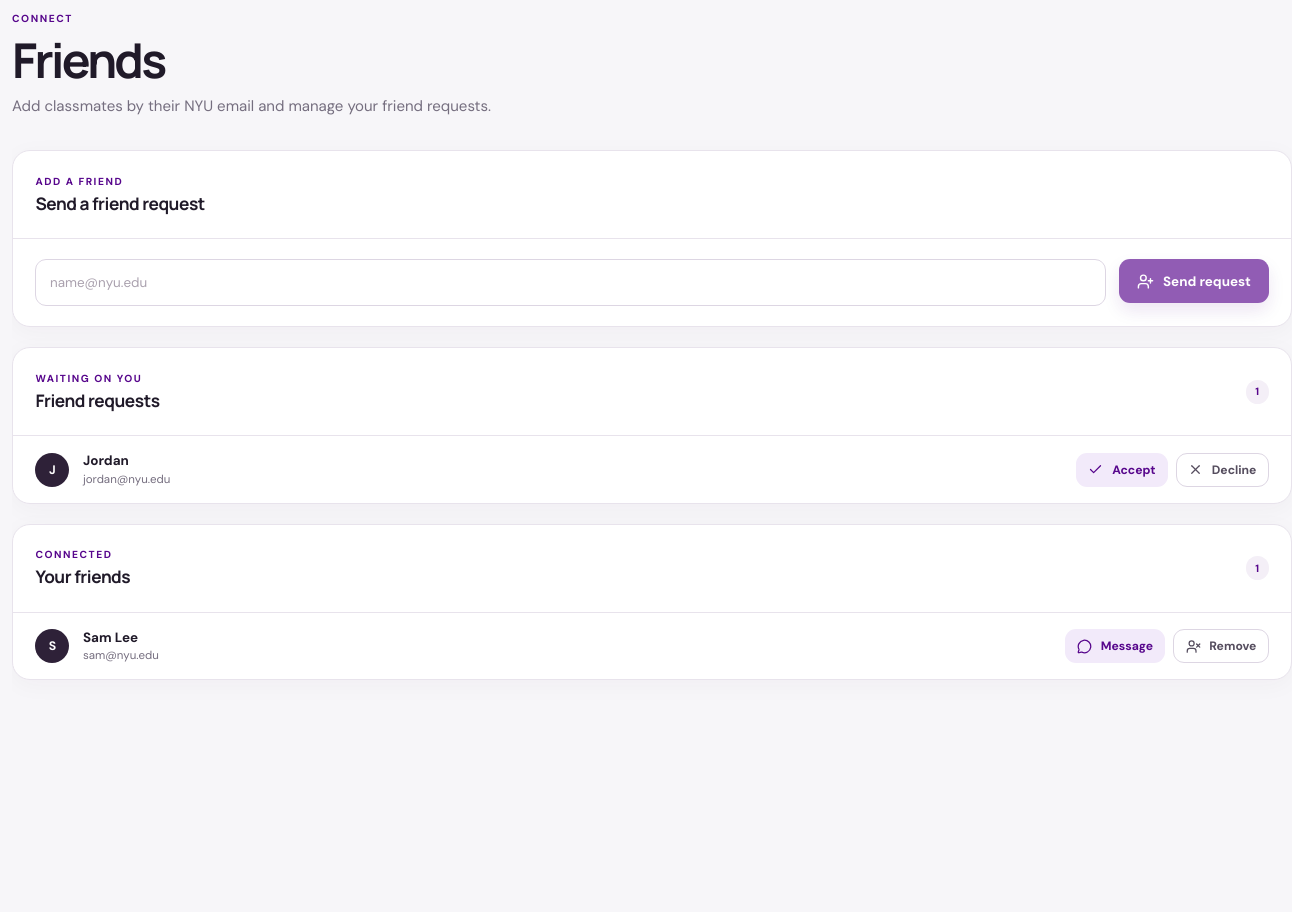
Test: answering a friend request updates the sidebar count (#37) › a request that fails does not announce a change
This screenshot has width=1292, height=912.
Click the button with aria-label "accept friend request from jordan" at (1122, 470), box [1076,453,1168,487]
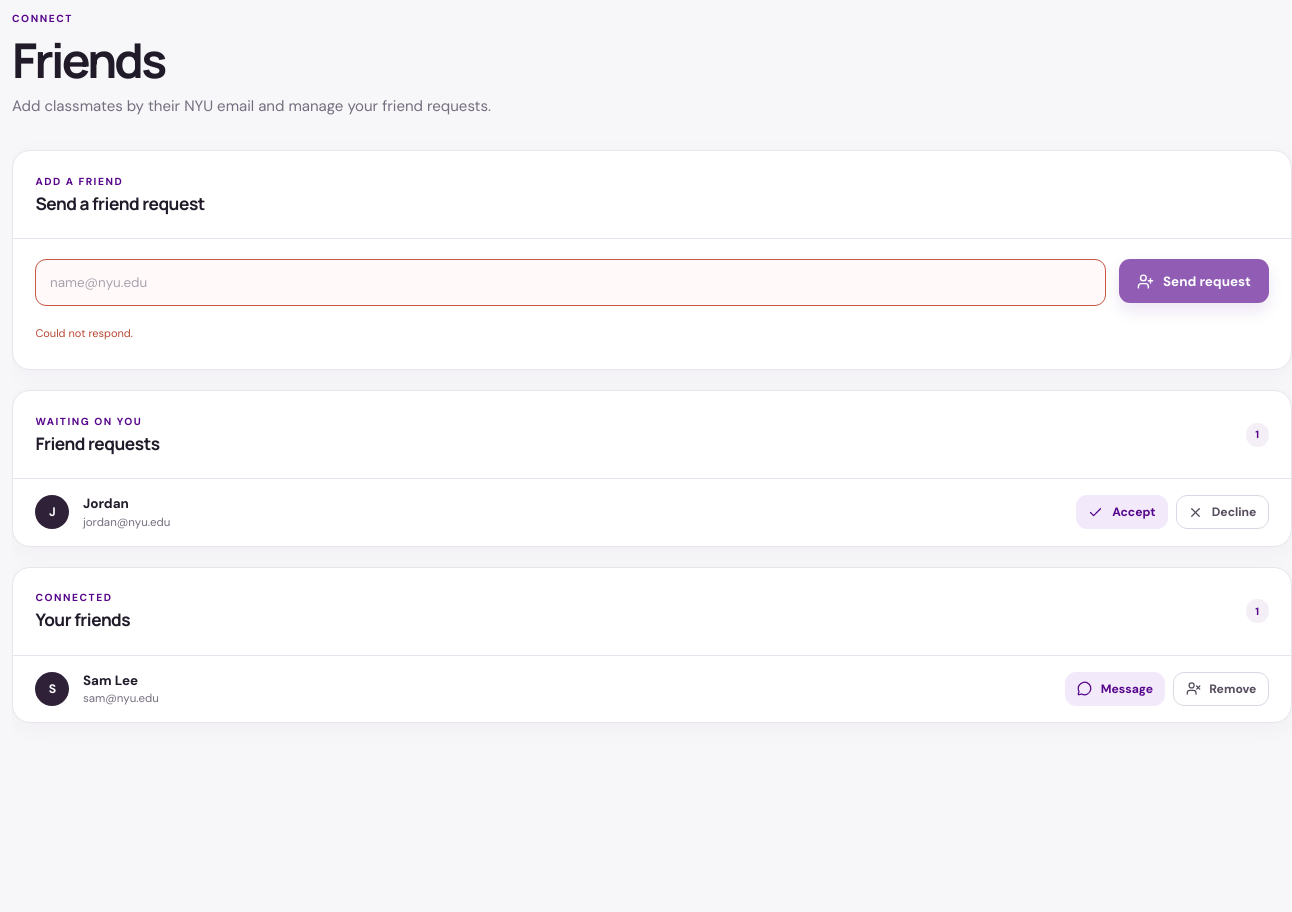
Check: the text "Could not respond." is shown, box [35,326,133,340]
